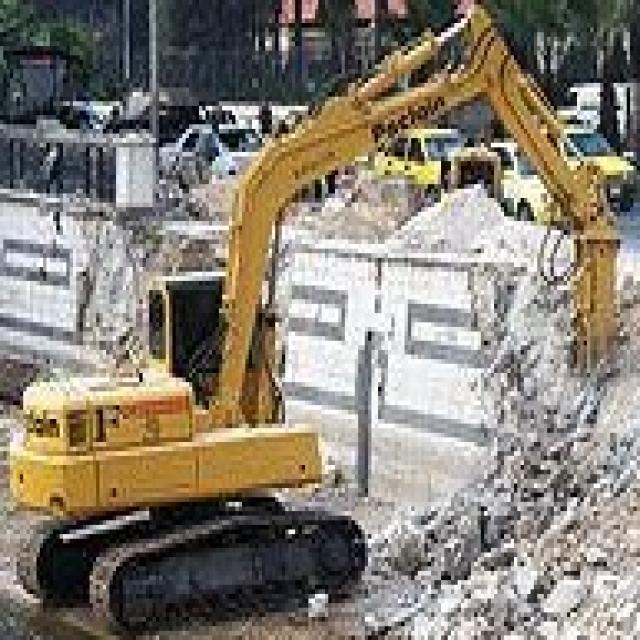excavator: (0, 268, 386, 628)
